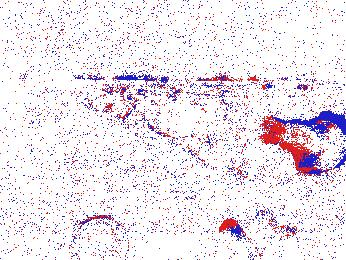flame jellyfish: (259, 113, 346, 176), (215, 209, 296, 260), (73, 216, 132, 260)
